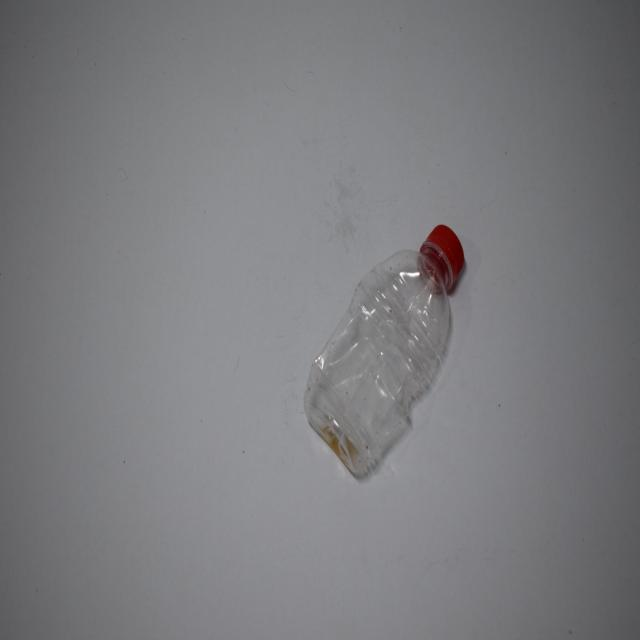bottle: (298, 215, 481, 483)
